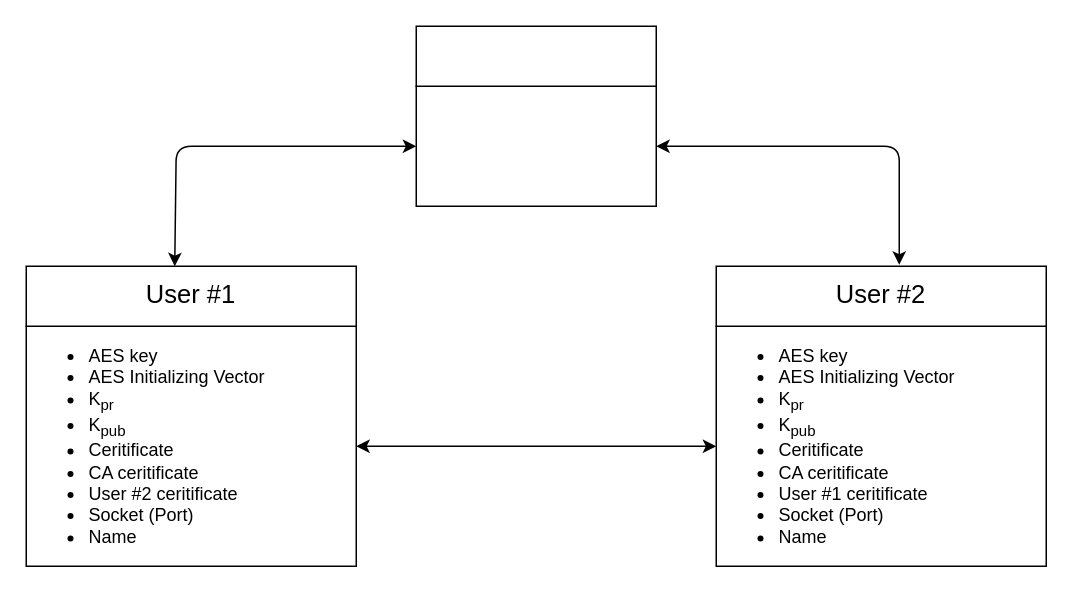
Some shapes in this 1073 by 593 pixel diagram are drawn without their labels. The shapes that lost their labels are listed below. From the top down, each one's centre as x and y in pixels, then its label:
the point at 535,55: Certificate Authority (CA)
the point at 535,145: K pr K pub SS Certificate Socket (Port)
